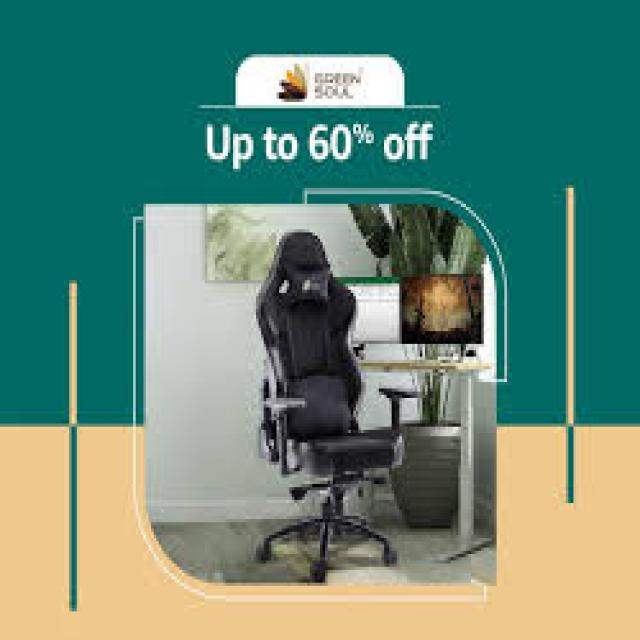chair: (203, 211, 434, 600)
